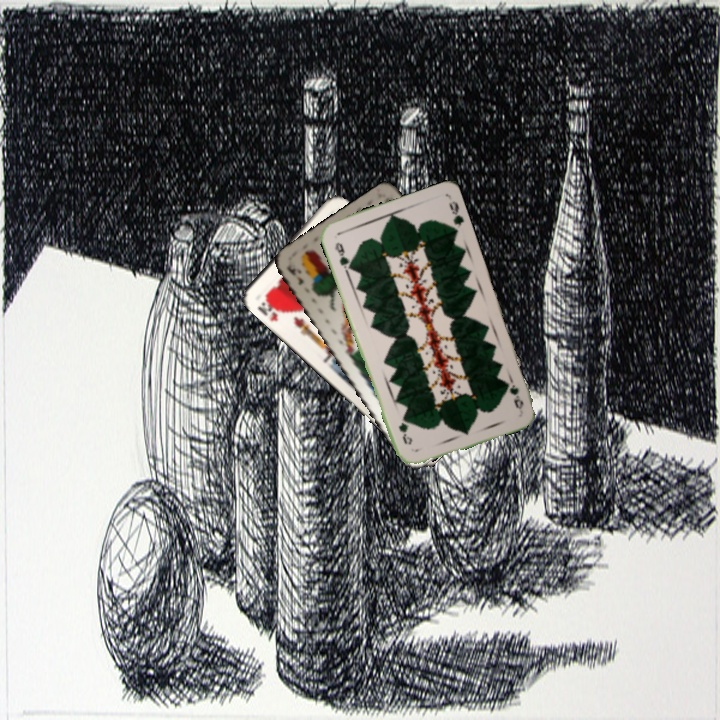EK: (283, 261, 306, 288)
G9: (501, 376, 526, 412), (331, 238, 355, 274)
HK: (253, 292, 287, 324)
